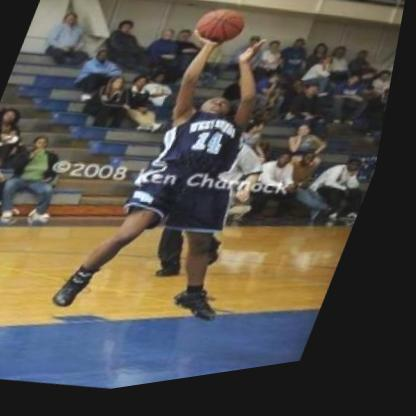basketball: (192, 4, 255, 61)
